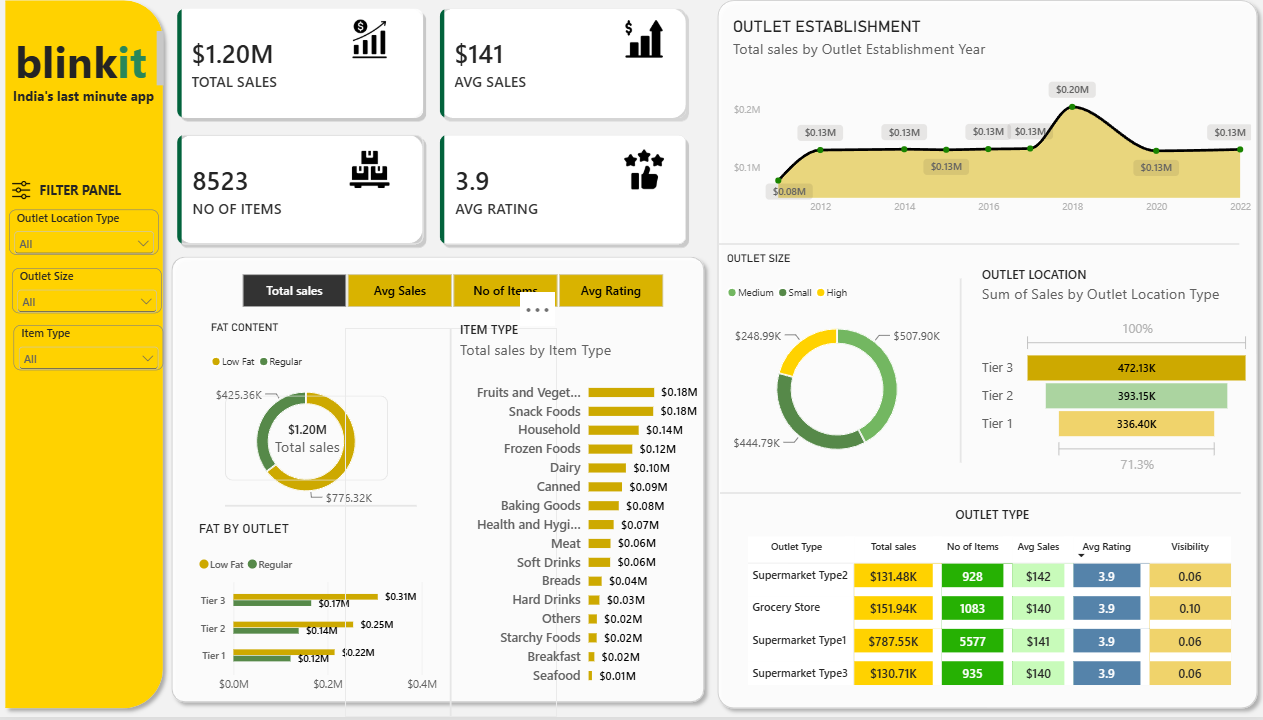

What the dashboard file says about the page in this screenshot:
{"tool":"powerbi","page":{"name":"Page 1","canvas":[1400,800],"ordinal":0},"visuals":[{"type":"shape","box":[0,0,192.1,799.9],"z":0},{"type":"textbox","box":[8.3,43.3,175.7,62],"z":1000},{"type":"textbox","box":[16.7,105,158.1,42.5],"z":2000},{"type":"cardVisual","fields":{"Data":["BlinkIT Grocery Data.Total sales","BlinkIT Grocery Data.Average Sales","BlinkIT Grocery Data.No of Items","BlinkIT Grocery Data.Average Rating"]},"box":[193.3,13.3,572,270],"z":3000},{"type":"image","box":[360,30,104,44],"z":4000},{"type":"image","box":[662,30,104,44],"z":5000},{"type":"image","box":[360,174,104,44],"z":6000},{"type":"image","box":[662,174,104,44],"z":7000},{"type":"shape","box":[183.3,283.3,606,510],"z":8000},{"type":"donutChart","title":"FAT CONTENT","fields":{"Y":["BlinkIT Grocery Data.Total sales"],"Category":["BlinkIT Grocery Data.Item Fat Content"]},"box":[220,350,241.7,238.3],"z":9000},{"type":"slicer","fields":{"Values":["Metrics.Metrics"]},"box":[250,310,504,40],"z":10000},{"type":"cardVisual","fields":{"Data":["BlinkIT Grocery Data.Total sales"]},"box":[251.7,445,180,94],"z":11000},{"type":"clusteredBarChart","title":"FAT BY OUTLET","fields":{"Y":["BlinkIT Grocery Data.Total sales"],"Category":["BlinkIT Grocery Data.Outlet Location Type"],"Series":["BlinkIT Grocery Data.Item Fat Content"]},"box":[207,569.7,294.8,223.6],"z":12000},{"type":"shape","box":[251.7,558.3,211.7,18.3],"z":13000},{"type":"shape","box":[384.2,371,233.3,428.3],"z":14000},{"type":"barChart","title":"ITEM TYPE","fields":{"Y":["BlinkIT Grocery Data.Total sales"],"Category":["BlinkIT Grocery Data.Item Type"]},"box":[495,350,295,435],"z":15000},{"type":"shape","box":[786,0,614,800],"z":16000},{"type":"lineChart","title":"OUTLET ESTABLISHMENT","fields":{"Category":["BlinkIT Grocery Data.Outlet Establishment Year"],"Y":["BlinkIT Grocery Data.Total sales"]},"box":[796,14,604,252],"z":17000},{"type":"shape","box":[796.7,273.3,575,10],"z":18000},{"type":"donutChart","title":"OUTLET SIZE","fields":{"Y":["BlinkIT Grocery Data.Total sales"],"Category":["BlinkIT Grocery Data.Outlet Size"]},"box":[790,273,275,275],"z":19000},{"type":"shape","box":[948,316,233.3,203.3],"z":20000},{"type":"funnel","title":"OUTLET LOCATION","fields":{"Category":["BlinkIT Grocery Data.Outlet Location Type"],"Y":["Sum(BlinkIT Grocery Data.Sales)"]},"box":[1072,288,328,260],"z":21000},{"type":"shape","box":[798,548,575,10],"z":22000},{"type":"pivotTable","title":"OUTLET TYPE","fields":{"Rows":["BlinkIT Grocery Data.Outlet Type"],"Values":["BlinkIT Grocery Data.Total sales","BlinkIT Grocery Data.No of Items","BlinkIT Grocery Data.Avg Sales","BlinkIT Grocery Data.Avg Rating","Avg(BlinkIT Grocery Data.Item Visibility)"]},"box":[813.2,553.2,571.4,241.8],"z":23000},{"type":"slicer","fields":{"Values":["BlinkIT Grocery Data.Outlet Location Type"]},"box":[13.2,240.1,165.6,49.7],"z":23001},{"type":"slicer","fields":{"Values":["BlinkIT Grocery Data.Outlet Size"]},"box":[16.6,304.7,165.6,49.7],"z":23002},{"type":"slicer","fields":{"Values":["BlinkIT Grocery Data.Item Type"]},"box":[18.2,367.7,165.6,49.7],"z":23003},{"type":"textbox","box":[13.2,208.7,157.3,19.9],"z":23004},{"type":"image","box":[0,208.7,53,19.9],"z":23005}]}

Visuals, with their boxes in screenshot pixels (x1, y1, x2, y2), scaled from the page's 1400x800 canvas onto the 1263x720 screenshot:
shape: 0, 0, 173, 719
textbox: 7, 39, 166, 95
textbox: 15, 94, 158, 133
cardVisual - BlinkIT Grocery Data.Total sales x BlinkIT Grocery Data.Average Sales: 174, 12, 690, 255
image: 325, 27, 419, 67
image: 597, 27, 691, 67
image: 325, 157, 419, 196
image: 597, 157, 691, 196
shape: 165, 255, 712, 714
"FAT CONTENT" donutChart: 198, 315, 417, 529
slicer - Metrics.Metrics: 226, 279, 680, 315
cardVisual - BlinkIT Grocery Data.Total sales: 227, 400, 389, 485
"FAT BY OUTLET" clusteredBarChart: 187, 513, 453, 714
shape: 227, 502, 418, 519
shape: 347, 334, 557, 719
"ITEM TYPE" barChart: 447, 315, 713, 706
shape: 709, 0, 1262, 719
"OUTLET ESTABLISHMENT" lineChart: 718, 13, 1262, 239
shape: 719, 246, 1237, 255
"OUTLET SIZE" donutChart: 713, 246, 961, 493
shape: 855, 284, 1066, 467
"OUTLET LOCATION" funnel: 967, 259, 1262, 493
shape: 720, 493, 1239, 502
"OUTLET TYPE" pivotTable: 734, 498, 1249, 716
slicer - BlinkIT Grocery Data.Outlet Location Type: 12, 216, 161, 261
slicer - BlinkIT Grocery Data.Outlet Size: 15, 274, 164, 319
slicer - BlinkIT Grocery Data.Item Type: 16, 331, 166, 376
textbox: 12, 188, 154, 206
image: 0, 188, 48, 206
